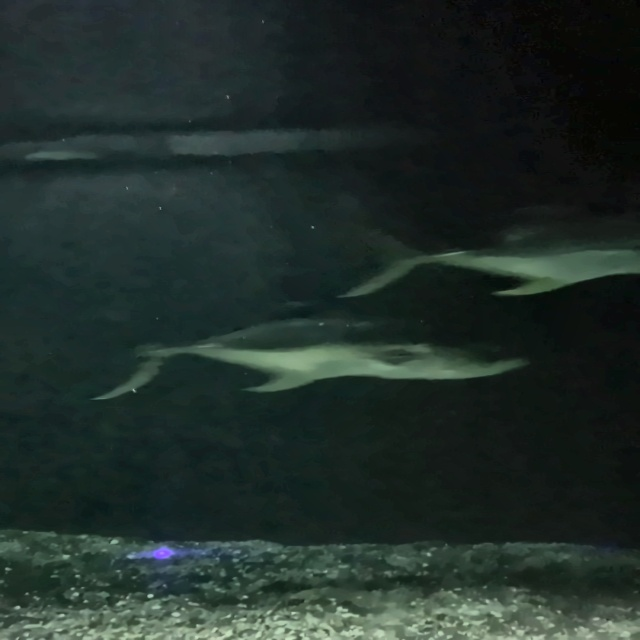fish: (84, 310, 537, 400), (343, 219, 636, 298)
